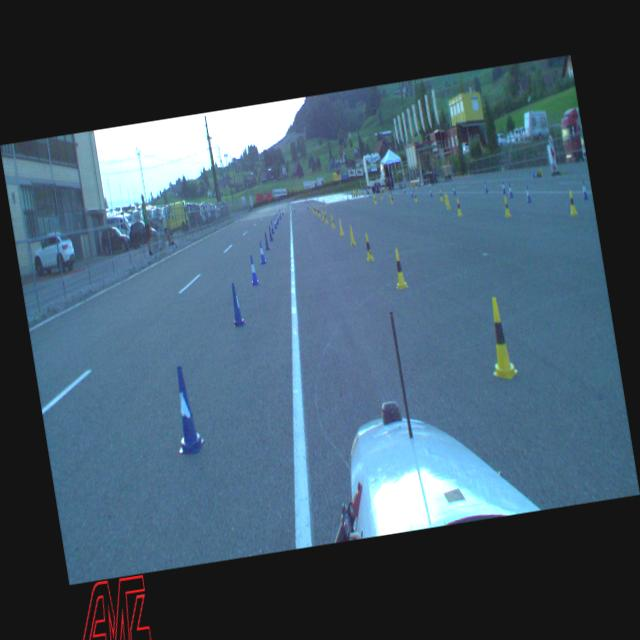blue_cone: (166, 362, 207, 456), (227, 282, 246, 328), (247, 253, 261, 286), (258, 240, 268, 265), (581, 178, 589, 200), (525, 185, 532, 203), (264, 231, 270, 251), (508, 182, 514, 198), (268, 225, 274, 241), (270, 221, 275, 234), (273, 218, 278, 230), (502, 180, 506, 193), (484, 181, 488, 193), (276, 212, 280, 222), (278, 210, 282, 220), (411, 188, 414, 198), (276, 215, 278, 225), (430, 188, 432, 196)
yellow_cone: (481, 296, 519, 382), (390, 248, 410, 290), (362, 232, 374, 262), (566, 189, 578, 216), (502, 195, 511, 218), (348, 224, 357, 247), (456, 198, 462, 216), (338, 218, 344, 236), (329, 213, 335, 230), (445, 194, 451, 210), (443, 193, 448, 205), (439, 188, 443, 202), (324, 211, 328, 225), (320, 209, 324, 220), (414, 192, 418, 202), (390, 194, 393, 204), (317, 207, 320, 217), (374, 196, 377, 205), (314, 207, 317, 214), (380, 190, 382, 200)
